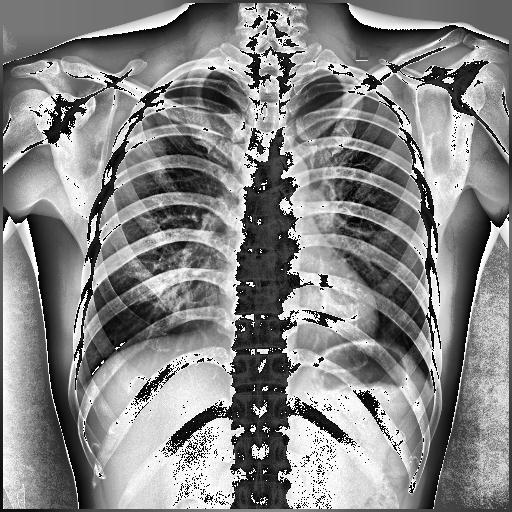13- Pulmonary fibrosis: (122, 112, 168, 162)
6- Infiltration: (125, 116, 166, 168)
7- Lung Opacity: (121, 111, 168, 171), (122, 112, 168, 162)
